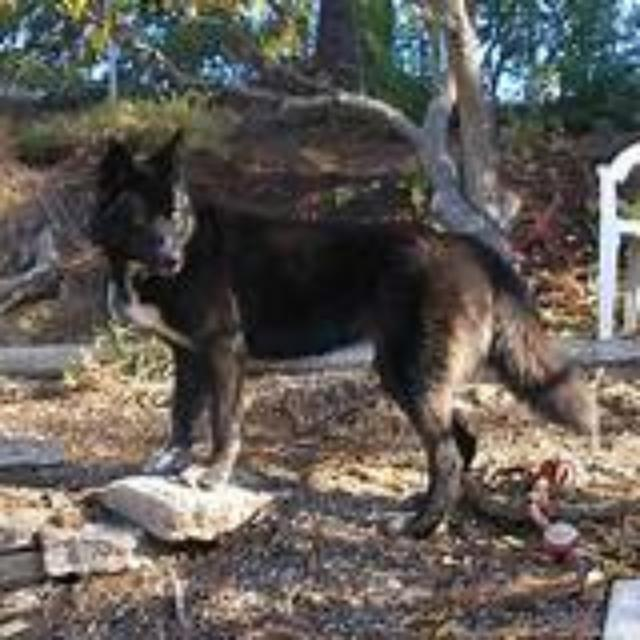dog: (49, 113, 579, 563)
